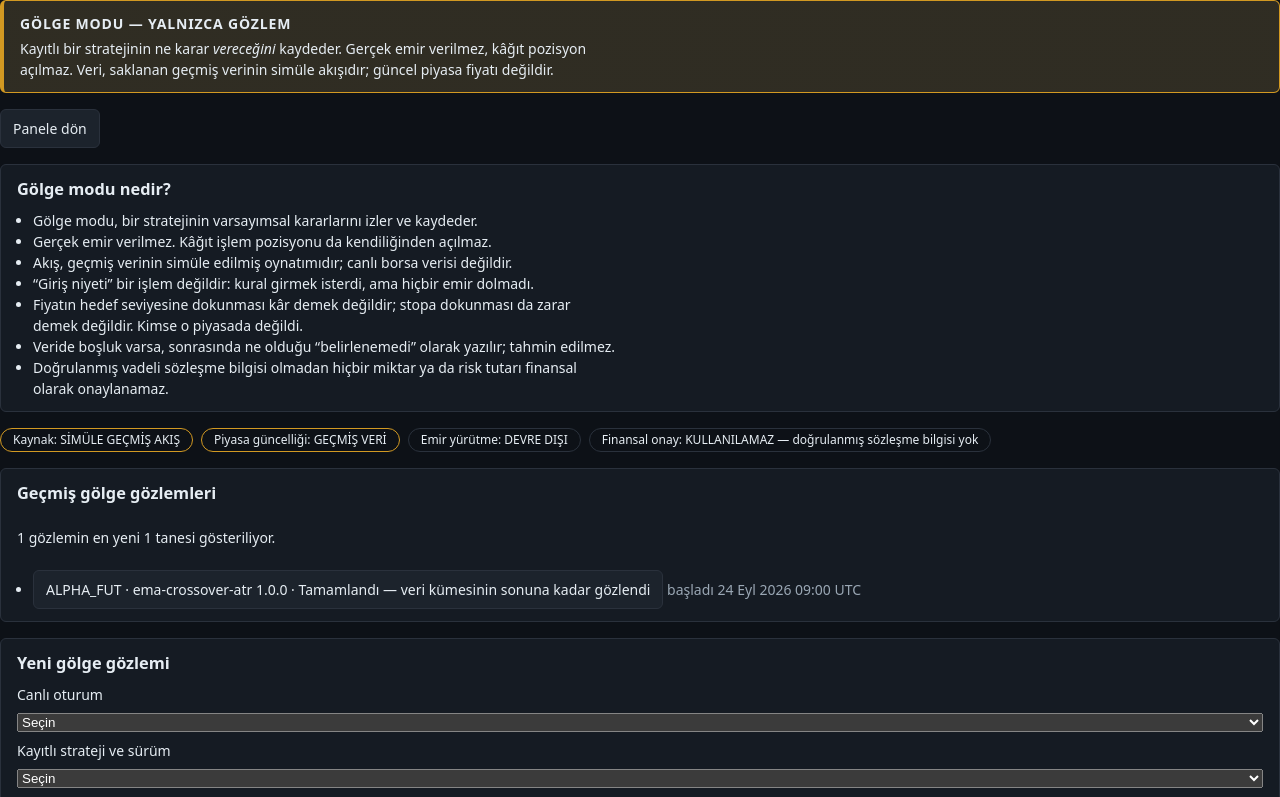
Scenario: a run, its decisions and what came after › describes a touched target as a touch, not a gain
The width and height of the screenshot is (1280, 797).
What coordinates should you click on to do the following:
click the button "ALPHA_FUT"
I would click on:
 (348, 590)
Its box is [33,570,663,609].
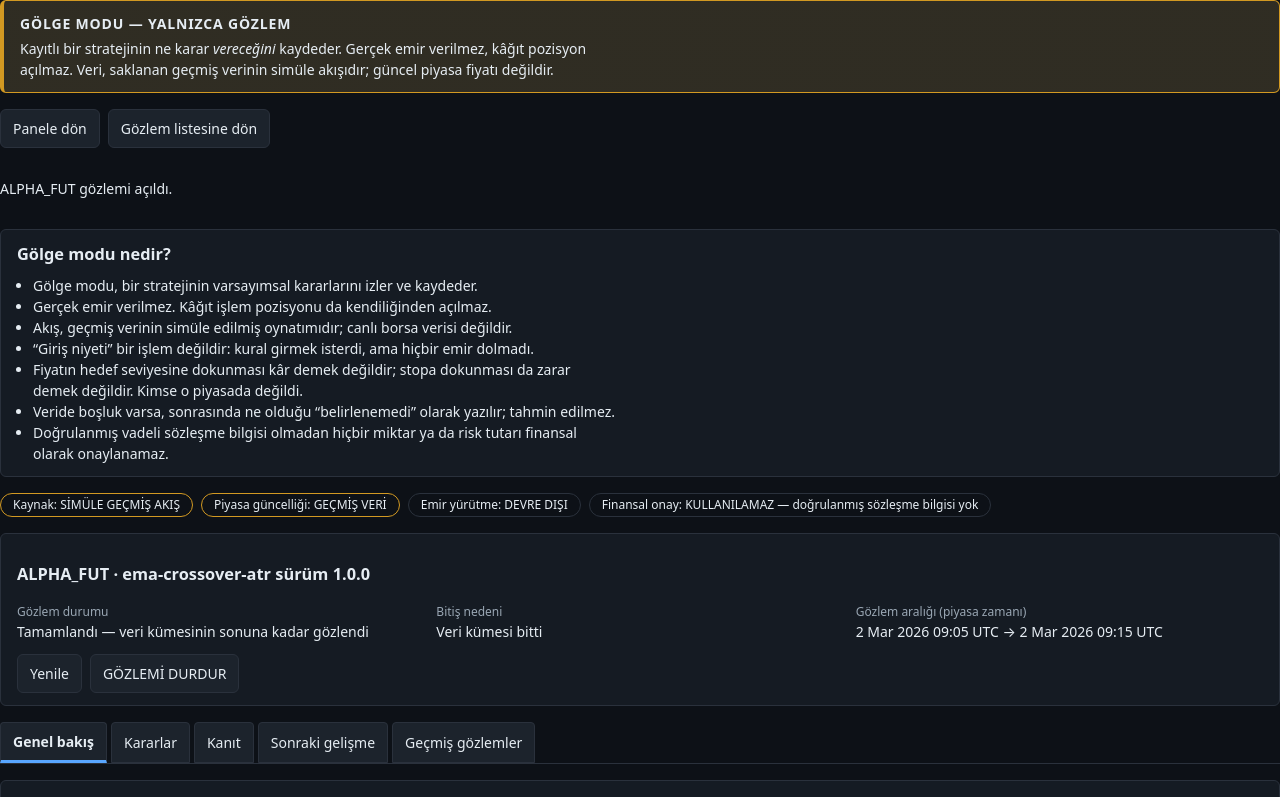
Now the element named "Gölge gözlemi bölümleri" is shown, box [0,722,1279,764]
What coordinates should you click on to do the following:
click the tab "Kararlar"
I would click on:
 (150, 742)
Its box is [111,722,190,763].
(page scrolled)
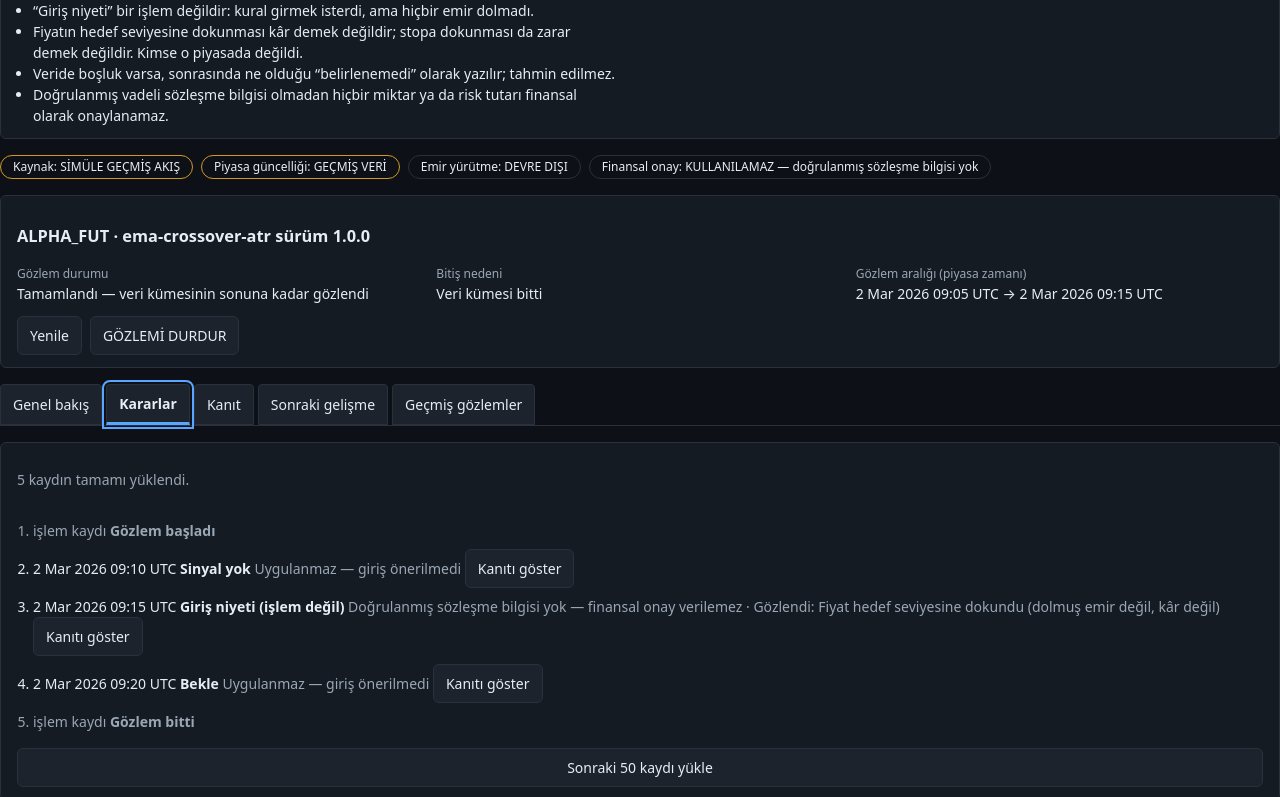
Now the text "Fiyat hedef seviyesine dokundu (dolmuş emir değil, kâr değil)" is shown, box [753,597,1220,616]
Now the text "Doğrulanmış sözleşme bilgisi yok — finansal onay verilemez" is shown, box [348,597,742,616]
